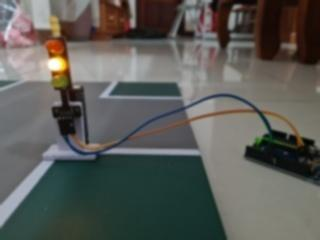yellow: (33, 28, 86, 106)
